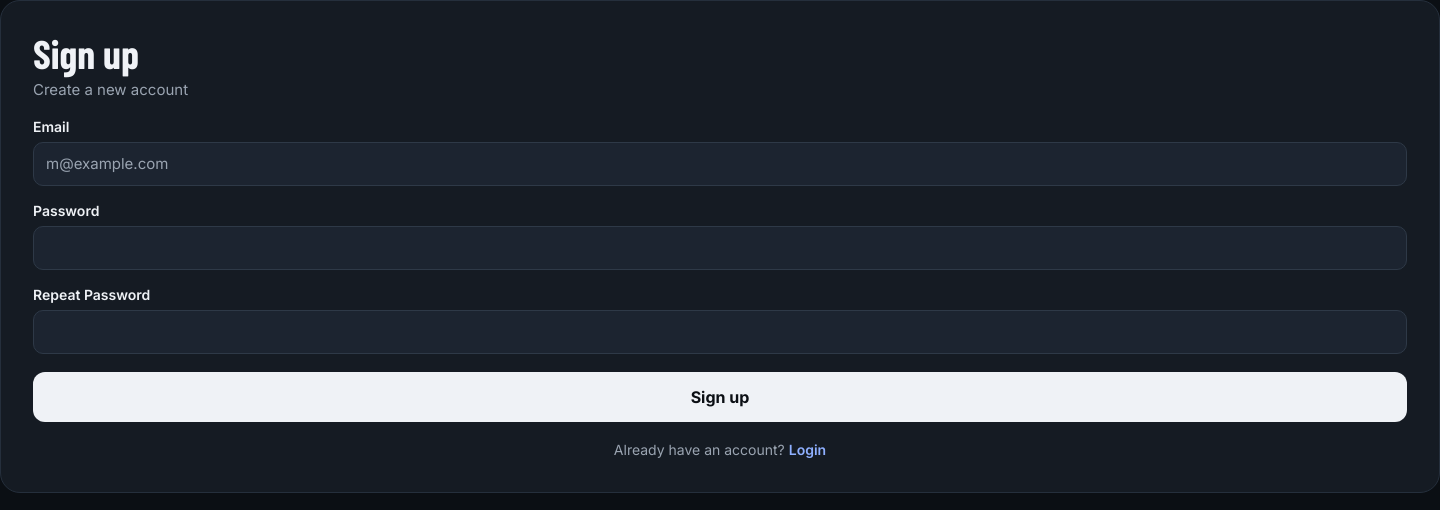
Test: SignUpForm › shows loading state while submitting
In the field labelled "Email": (720, 164) x1=33 y1=142 x2=1407 y2=186, type "test@example.com"
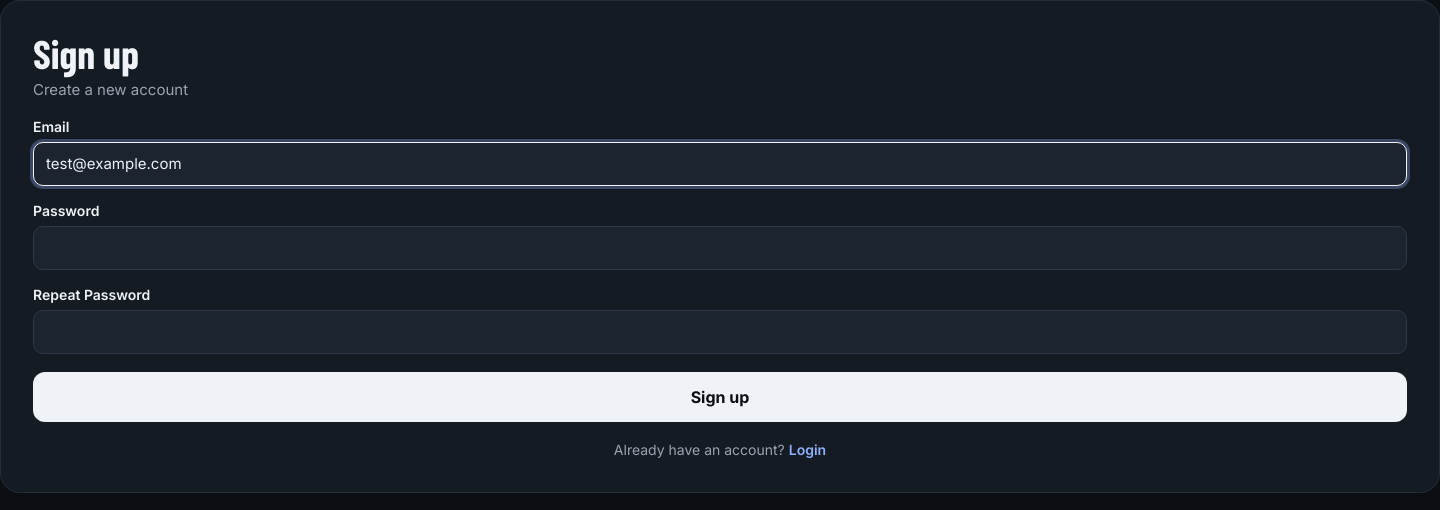
In the password field labelled "Password": (720, 248) x1=33 y1=226 x2=1407 y2=270, type "password123"
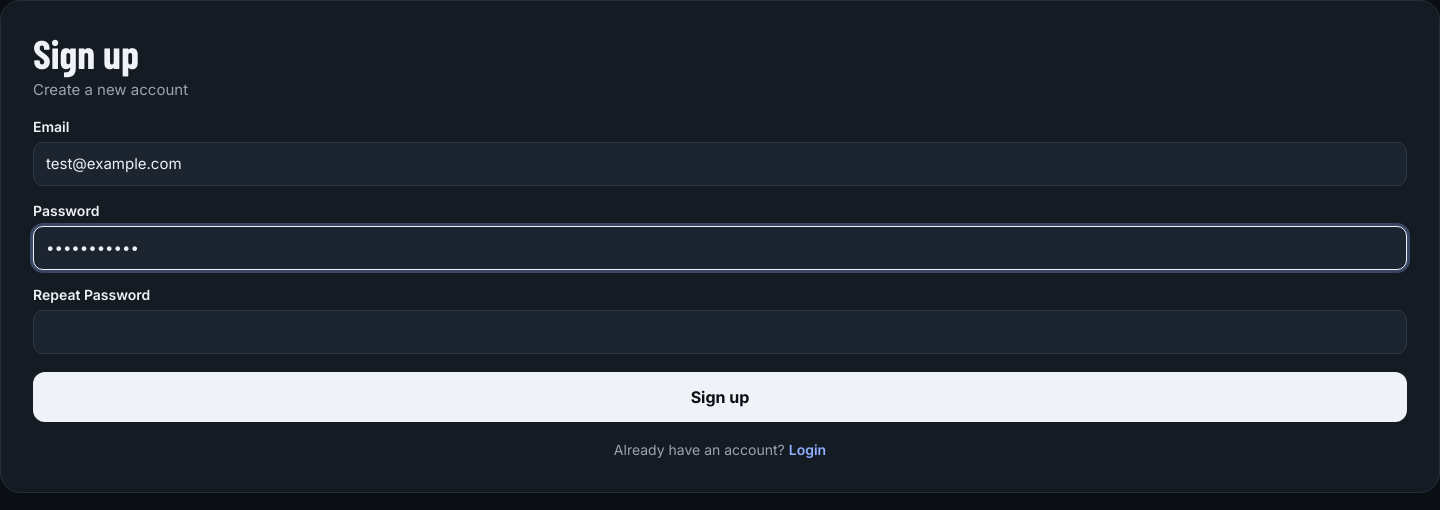
In the password field labelled "Repeat Password": (720, 332) x1=33 y1=310 x2=1407 y2=354, type "password123"
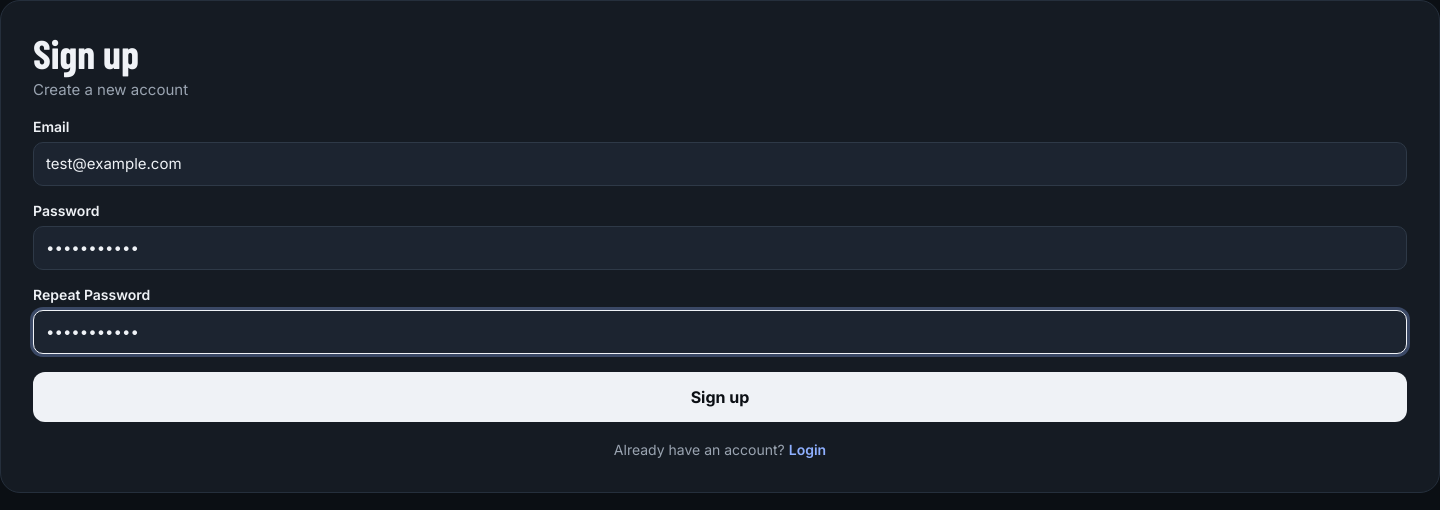
Click the button "Sign up": click(720, 396) x1=33 y1=372 x2=1407 y2=422
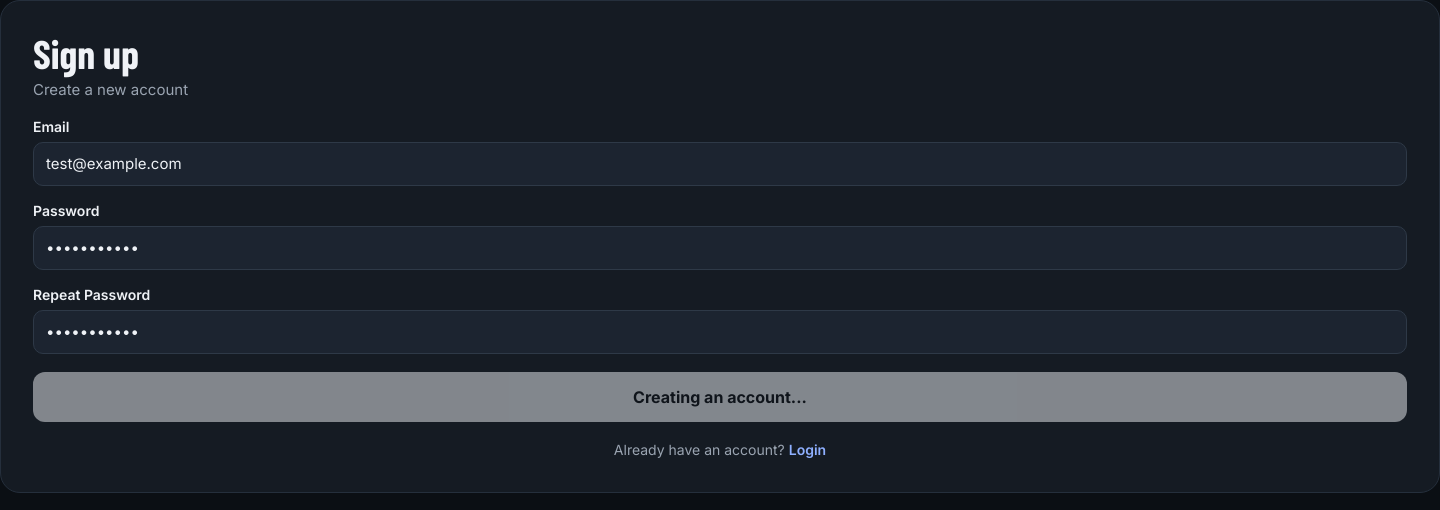
Expected: the button "Creating an account..." is disabled, x1=33 y1=372 x2=1407 y2=422
